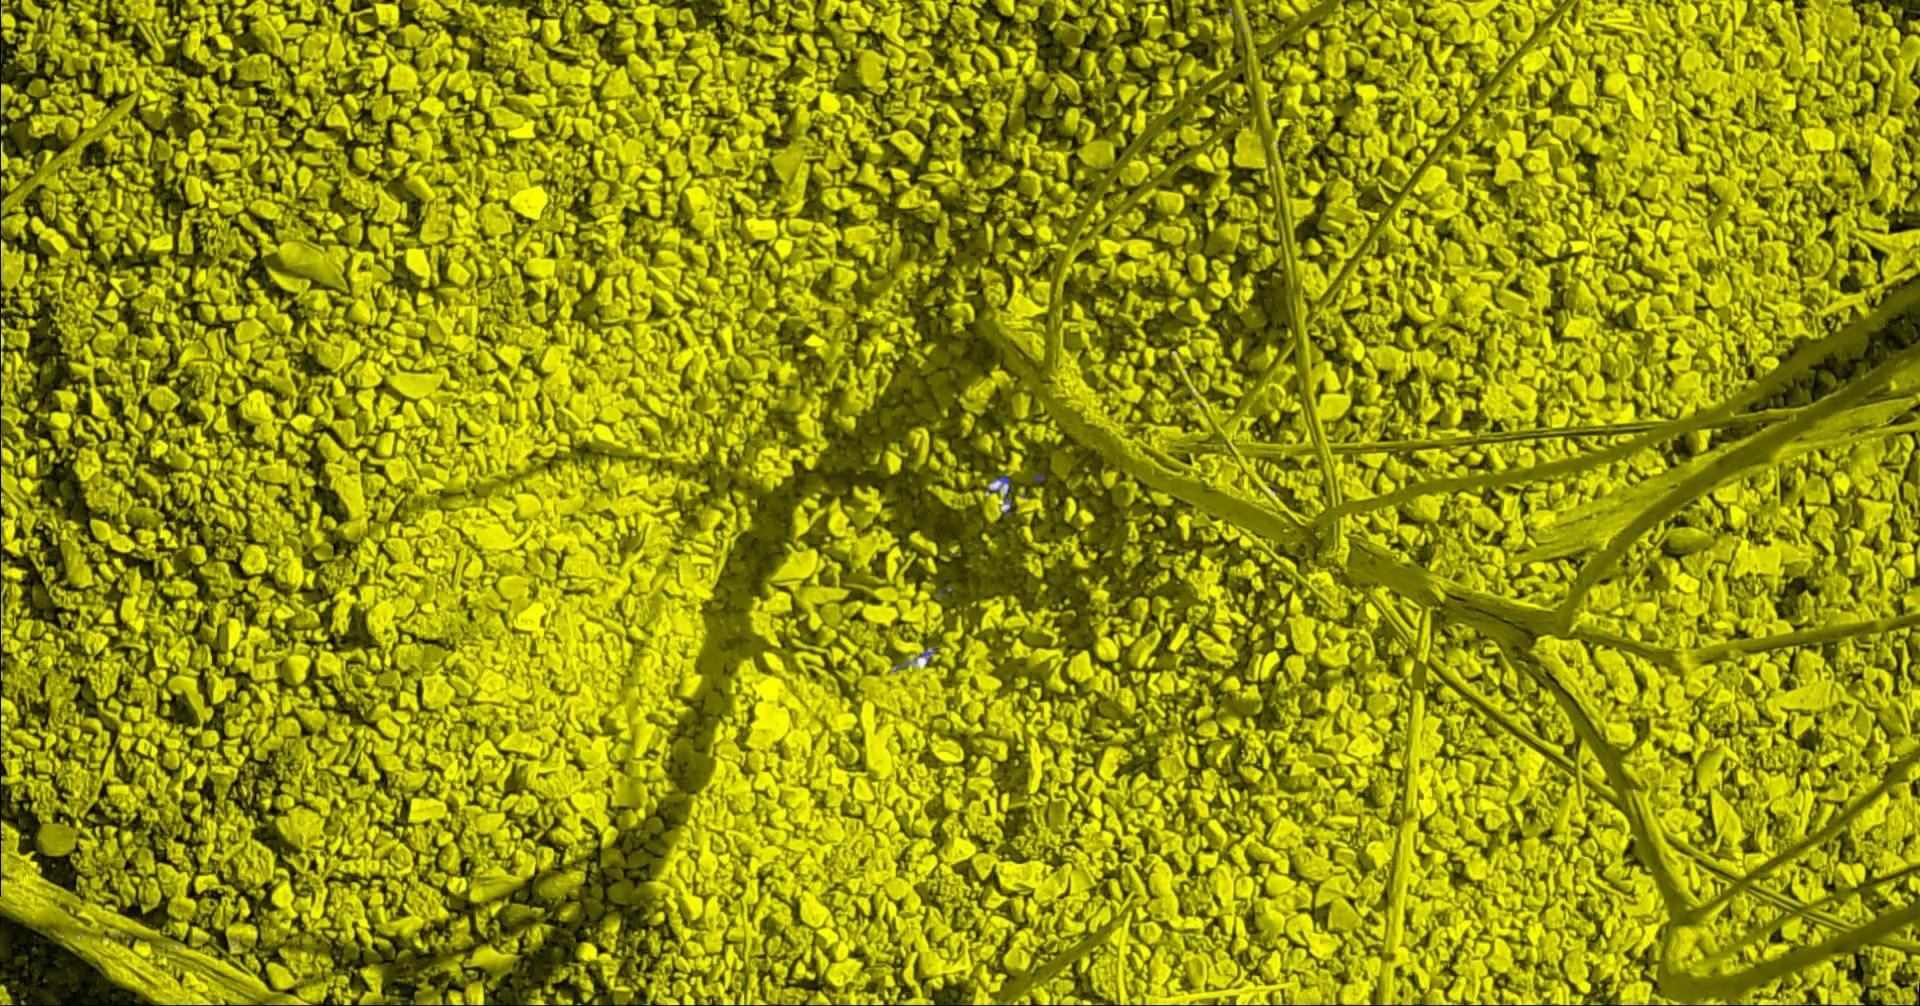ant: (993, 474, 1011, 506)
